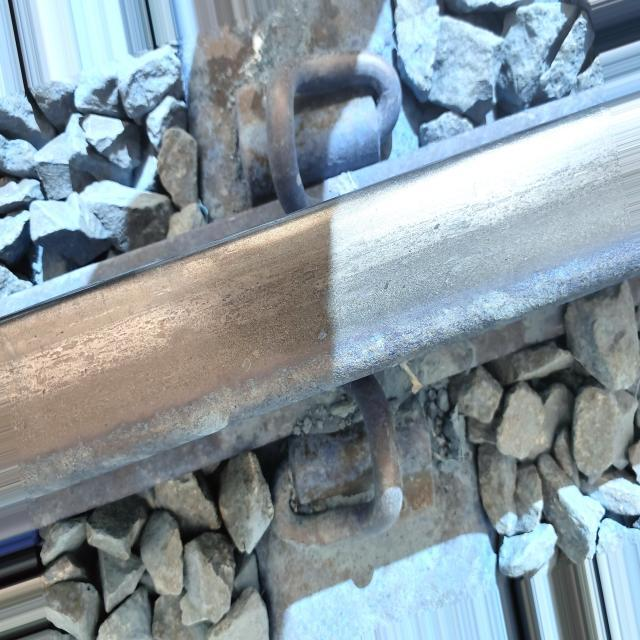Good Fasteners: (262, 364, 469, 614), (214, 25, 440, 229)
